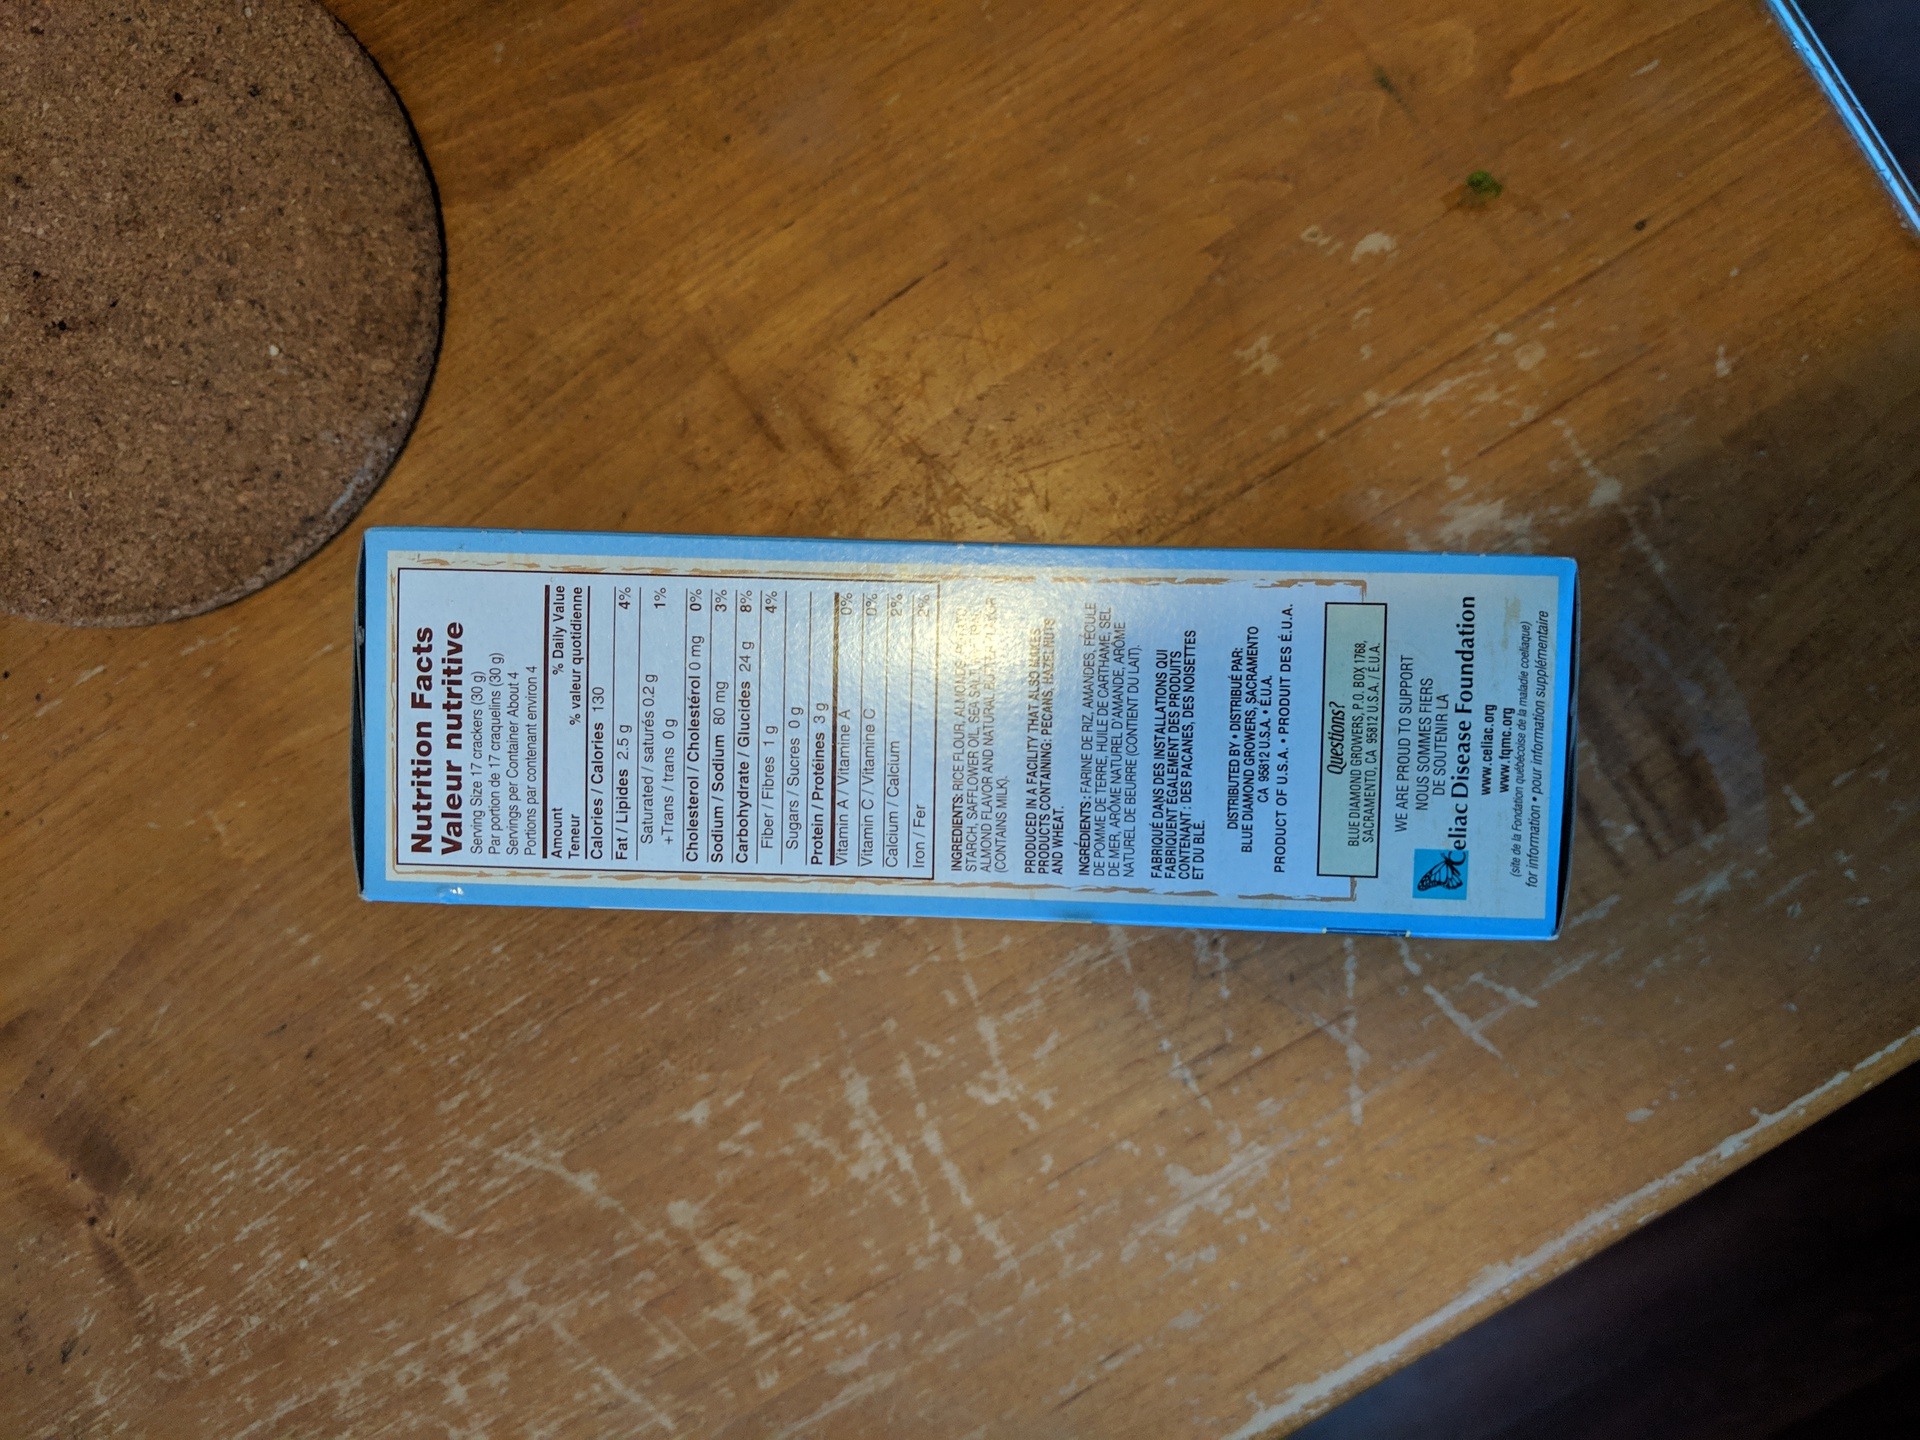blue_diamond_nut_thins_almond_seasalt: (358, 526, 1578, 953)
